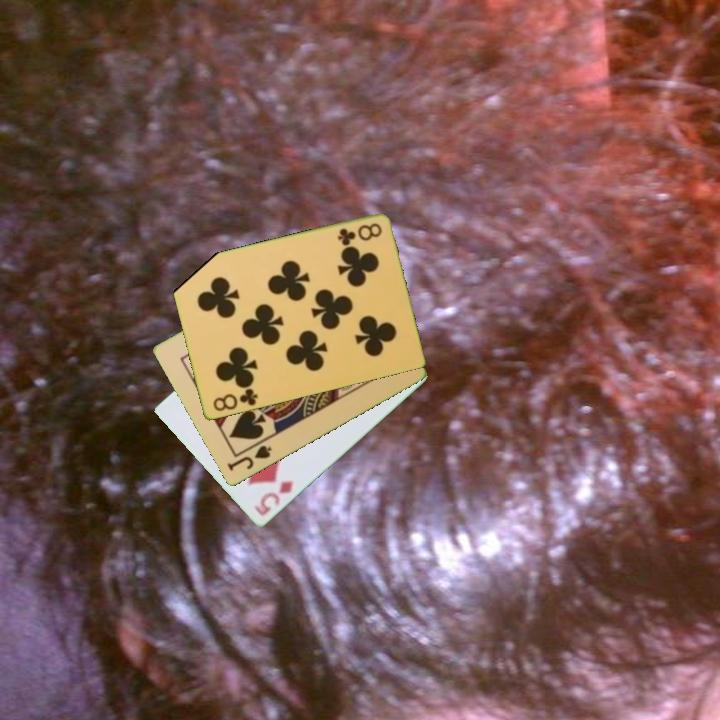5d: (250, 477, 296, 519)
8c: (209, 385, 260, 415), (334, 220, 385, 248)
Js: (224, 442, 275, 474)
